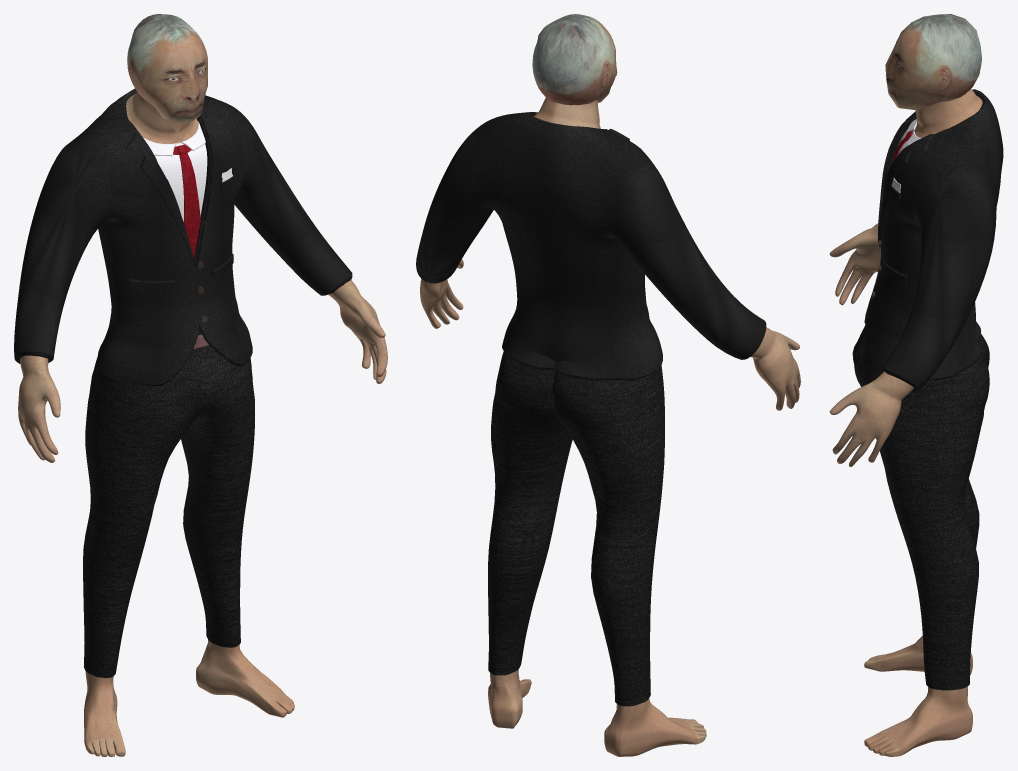
File: Pansionär.fbx
3 renders of one model, left to right at view 1: azimuth 30°, elevation 25°; view 2: azimuth 150°, elevation 25°; view 3: azimuth 270°, elevation 25°, orthographic. The views are drawn at different scales.
Parts seen in each view (by area): view 1: pasted__pasted__group4, pasted__pasted__Head, tie1; view 2: pasted__pasted__group4, pasted__pasted__Head; view 3: pasted__pasted__group4, pasted__pasted__Head.
Part boxes in pixels (x1,y1,x2,y2): pasted__pasted__group4: [14, 88, 387, 756]; pasted__pasted__Head: [127, 14, 207, 123]; tie1: [173, 144, 200, 258]; pasted__pasted__group4: [416, 97, 800, 756]; pasted__pasted__Head: [532, 14, 617, 105]; pasted__pasted__group4: [829, 89, 1003, 756]; pasted__pasted__Head: [885, 14, 981, 110].
Bounding box in the file's own units: 6.05 × 11.3 × 2.58.
